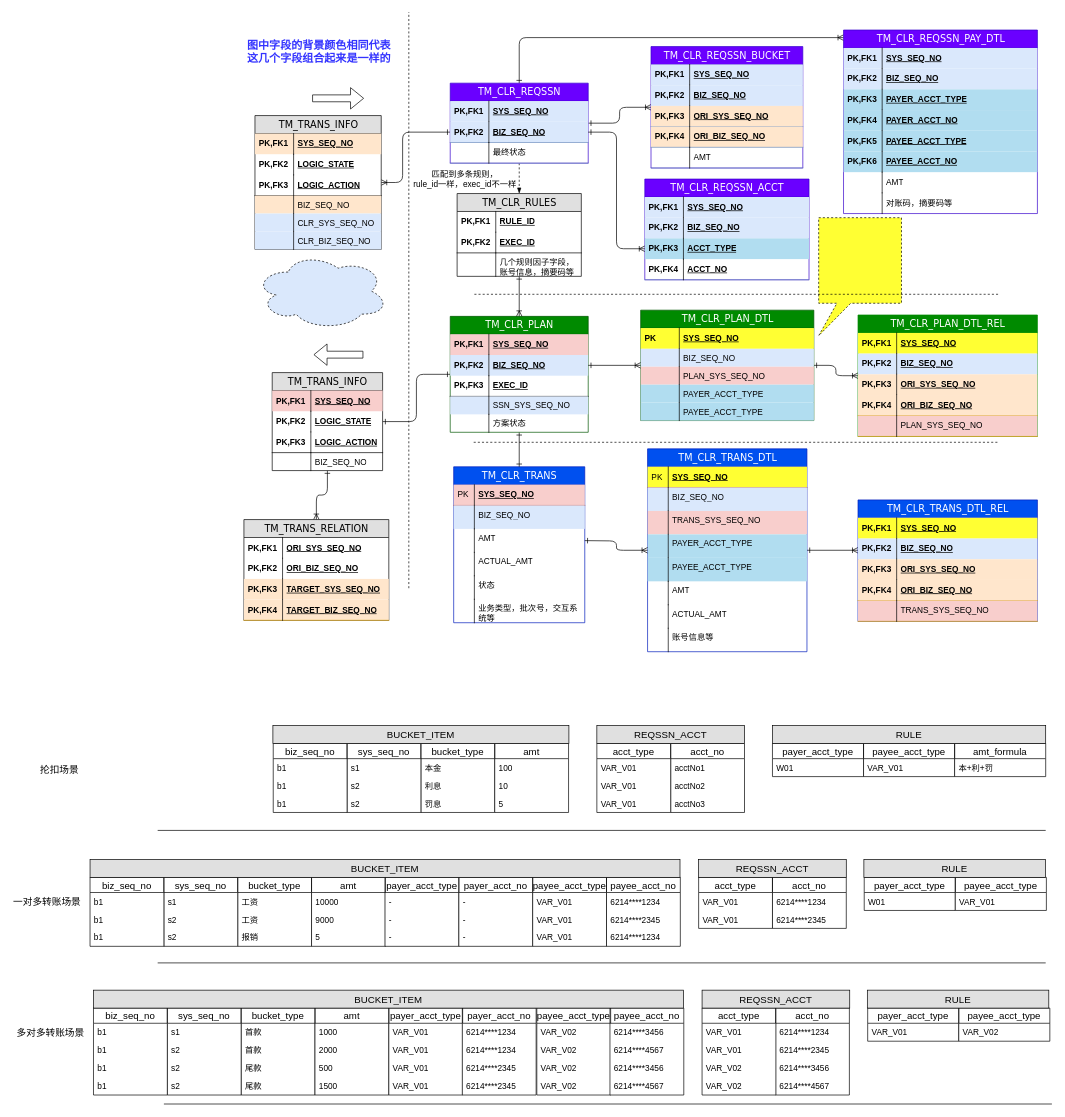
Some shapes in this 1065 by 1117 pixel diagram are drawn without their labels. Each missing label, with the centre of its shape:
"业务系统应该记录每条dtl对应的reqssn的流水号，方便后续查看" goes at [321,290].
"如果plan_dtl只有一条数据的时候，SYS_SEQ_NO等于plan.SYS_SEQ_NO" goes at [859,276].
